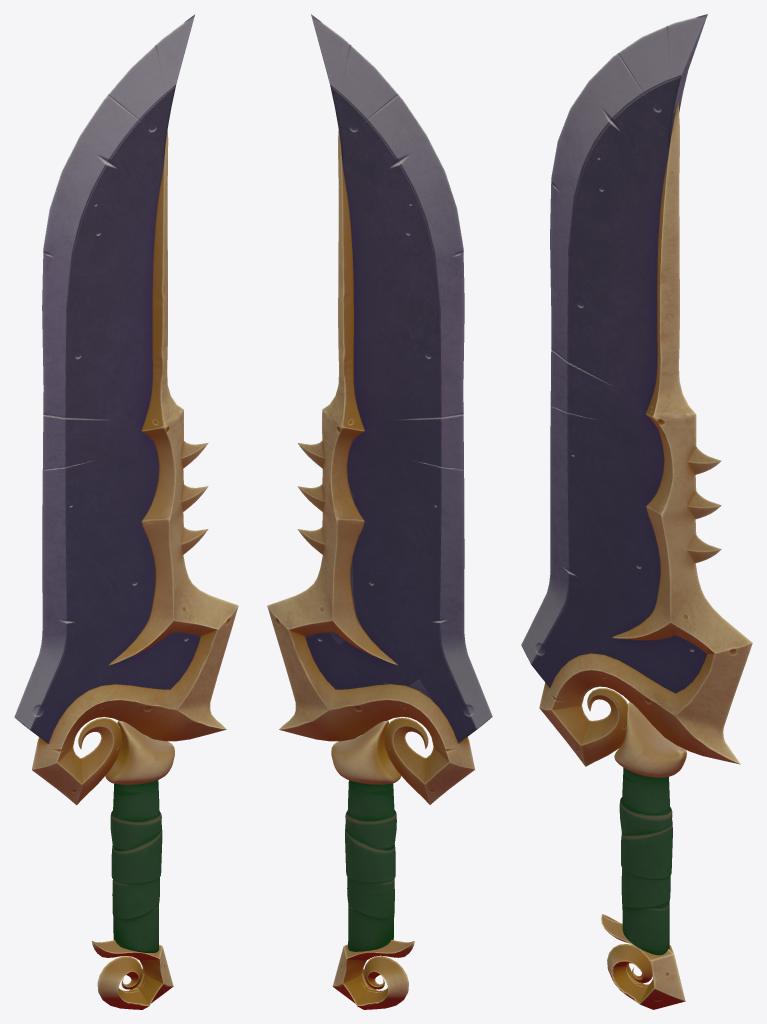
3 renders of one model, left to right at view 1: azimuth 30°, elevation 25°; view 2: azimuth 150°, elevation 25°; view 3: azimuth 330°, elevation 25°, orthographic. The views are drawn at different scales.
Visible parts, largest first — view 1: Blade_low, ornament_low, wraps_low, guard_low; view 2: Blade_low, ornament_low, wraps_low, guard_low; view 3: Blade_low, ornament_low, wraps_low, guard_low.
Boxes of the visible parts, x1=… form: Blade_low: x1=14, y1=14, x2=200, y2=743; ornament_low: x1=32, y1=130, x2=238, y2=1009; wraps_low: x1=110, y1=780, x2=162, y2=952; guard_low: x1=105, y1=721, x2=174, y2=784; Blade_low: x1=305, y1=14, x2=492, y2=743; ornament_low: x1=267, y1=130, x2=474, y2=1009; wraps_low: x1=345, y1=780, x2=396, y2=951; guard_low: x1=331, y1=720, x2=401, y2=784; Blade_low: x1=521, y1=14, x2=707, y2=693; ornament_low: x1=539, y1=102, x2=752, y2=1009; wraps_low: x1=619, y1=767, x2=672, y2=955; guard_low: x1=614, y1=702, x2=686, y2=777.
Size of the model in its own units: 0.3756 by 1.57 by 0.0767.
Materials: 1 (1 with a texture image).
